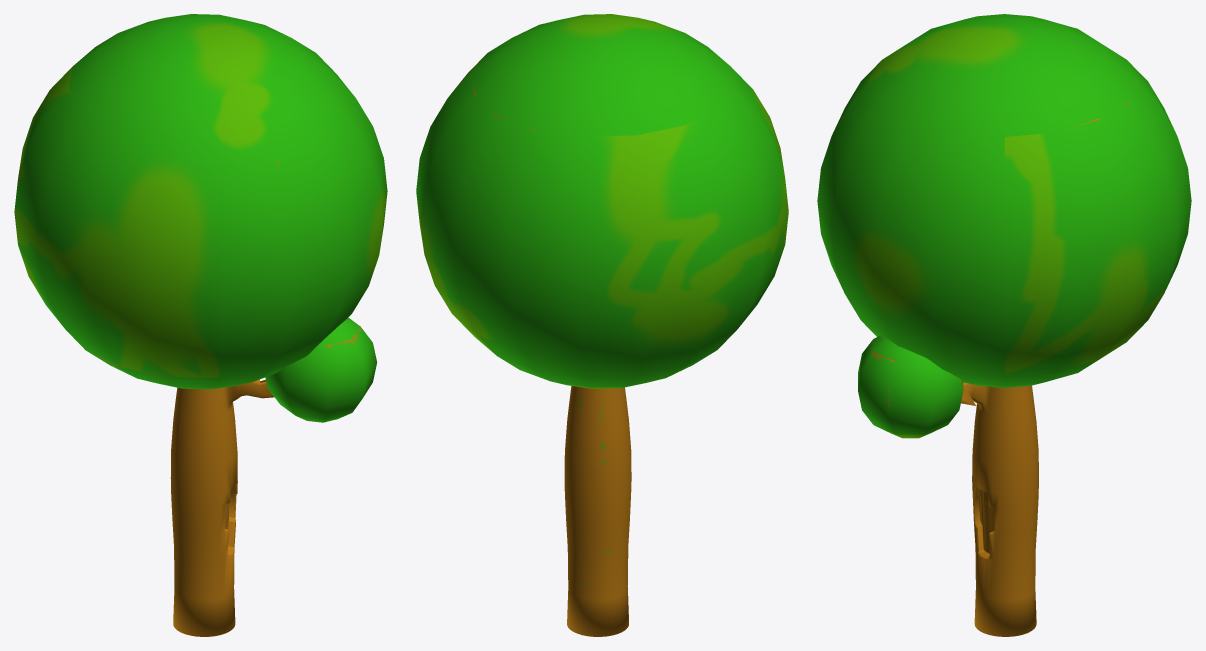
The model's file is m_tree.fbx.
The picture shows the model from 3 angles, left to right: view 1: azimuth 30°, elevation 25°; view 2: azimuth 150°, elevation 25°; view 3: azimuth 270°, elevation 25°; orthographic projection.
Visible parts, largest first — view 1: Tree; view 2: Tree; view 3: Tree.
Boxes of the visible parts, x1,y1,x2,y2 form: Tree: (14, 14, 387, 636); Tree: (416, 14, 788, 636); Tree: (817, 14, 1191, 636).
Bounding box in the file's own units: 12.06 × 21.01 × 12.06.
